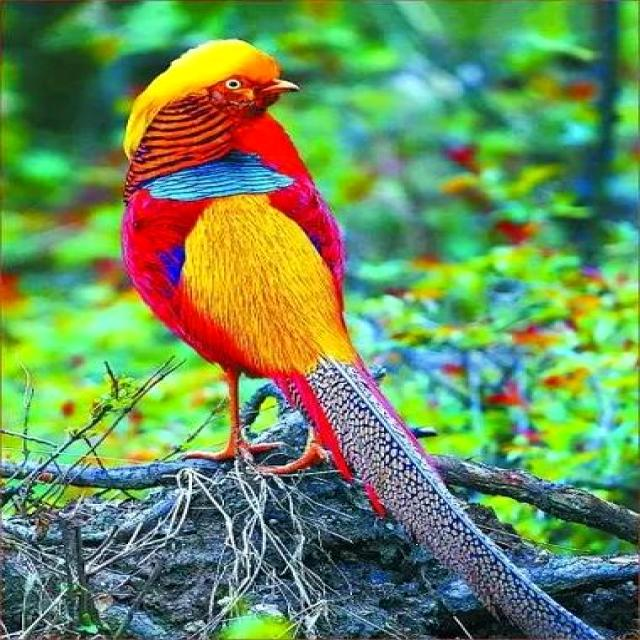Chrysolophus pictus feather: (305, 359, 613, 640)
